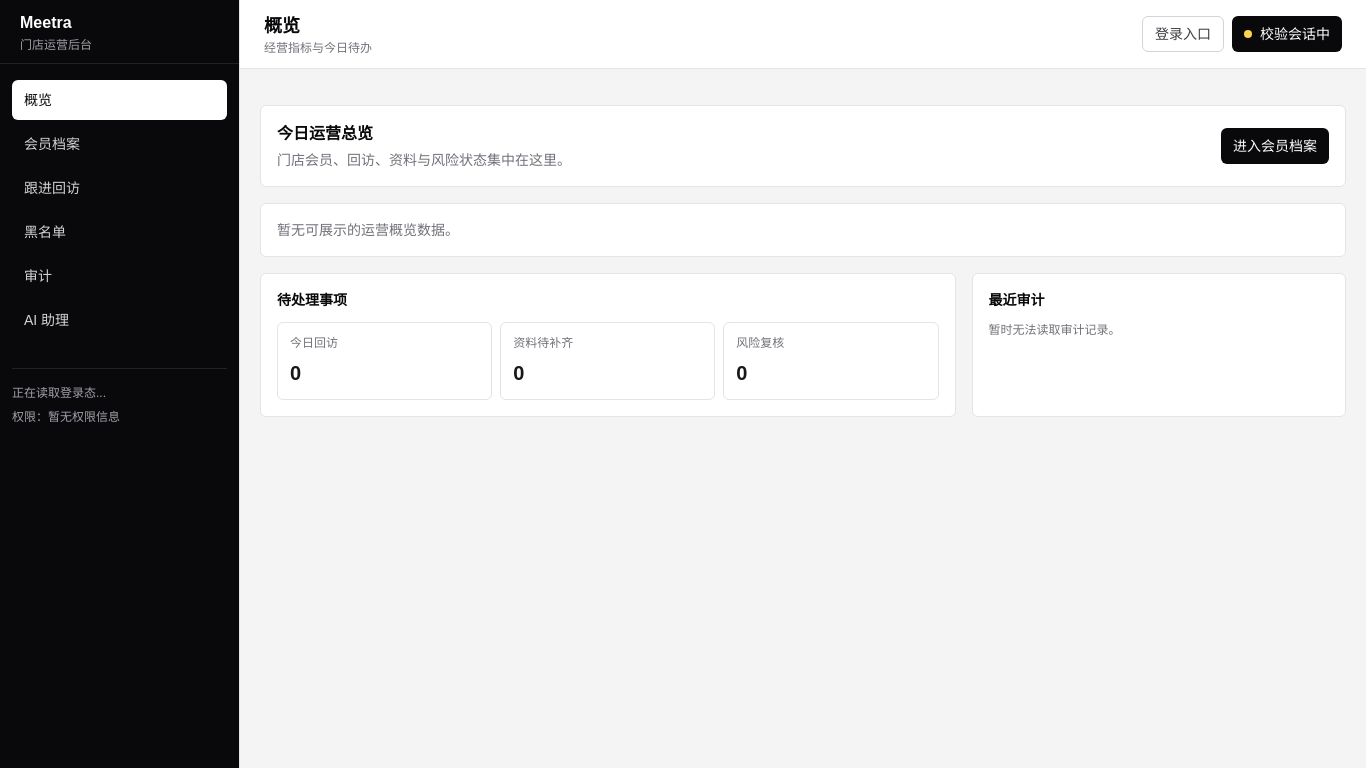
Test case: 精简 V1 首页验收 › shows Assistant member results as direct cards
Click the button "AI 助理". click: (120, 320)
box: left=12, top=300, right=227, bottom=340
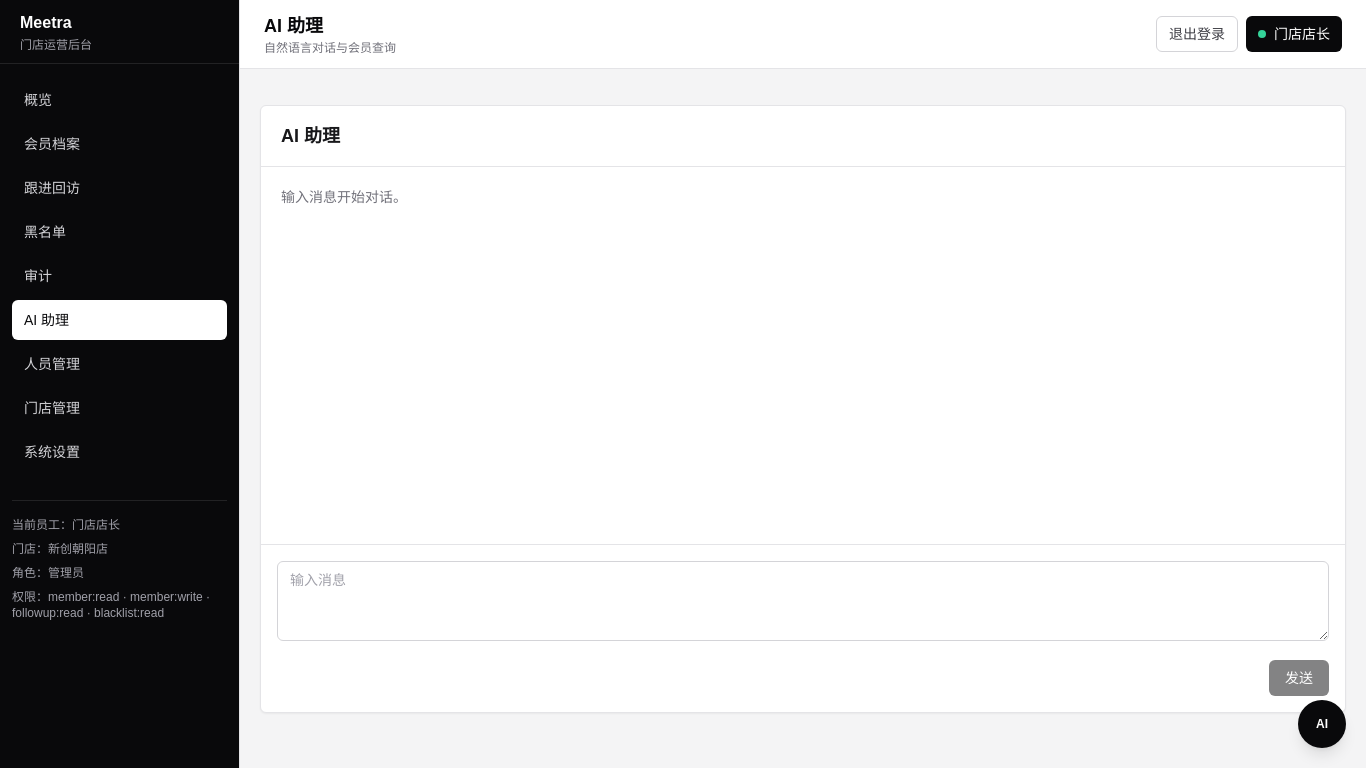
Type "30岁女生" into the text box labelled "输入消息". click: (803, 601)
box: left=277, top=561, right=1329, bottom=641
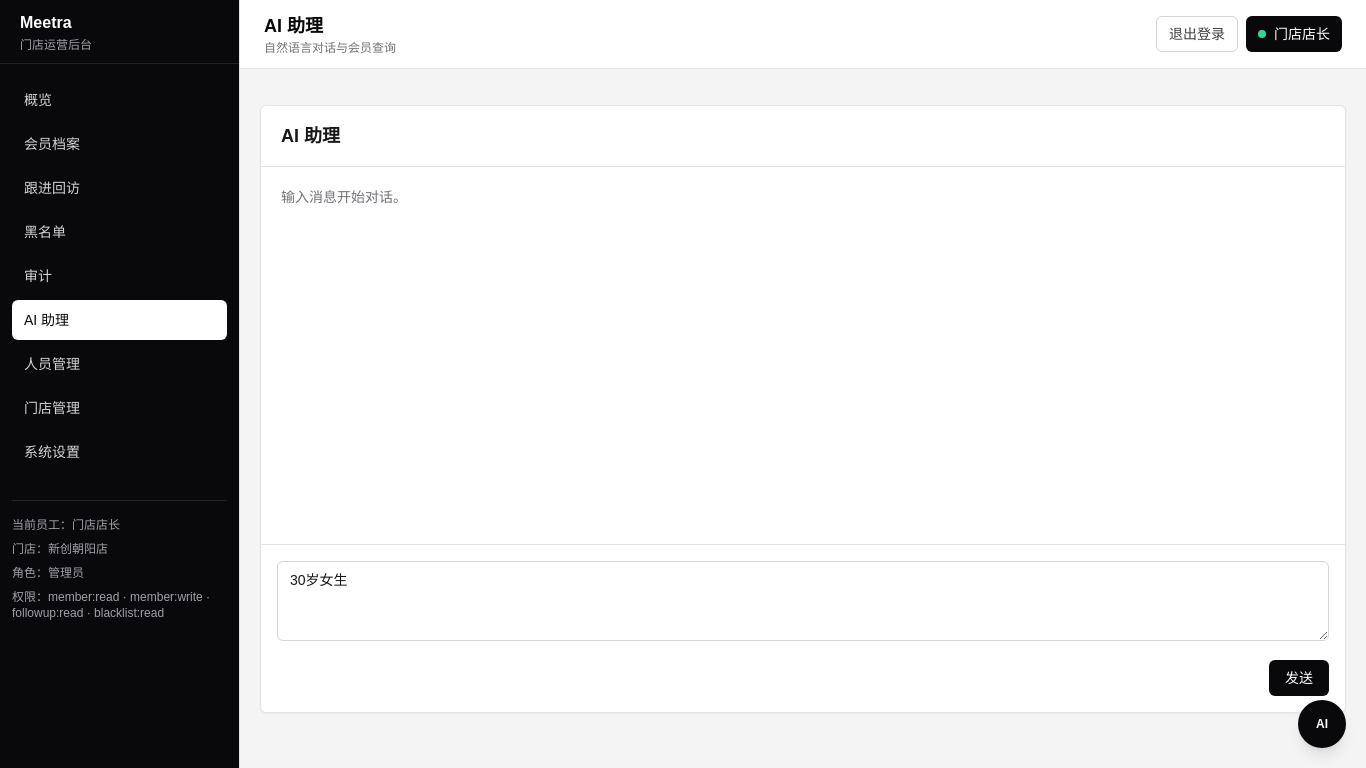
Click the button "发送". click: (1299, 678)
box: left=1269, top=660, right=1329, bottom=696
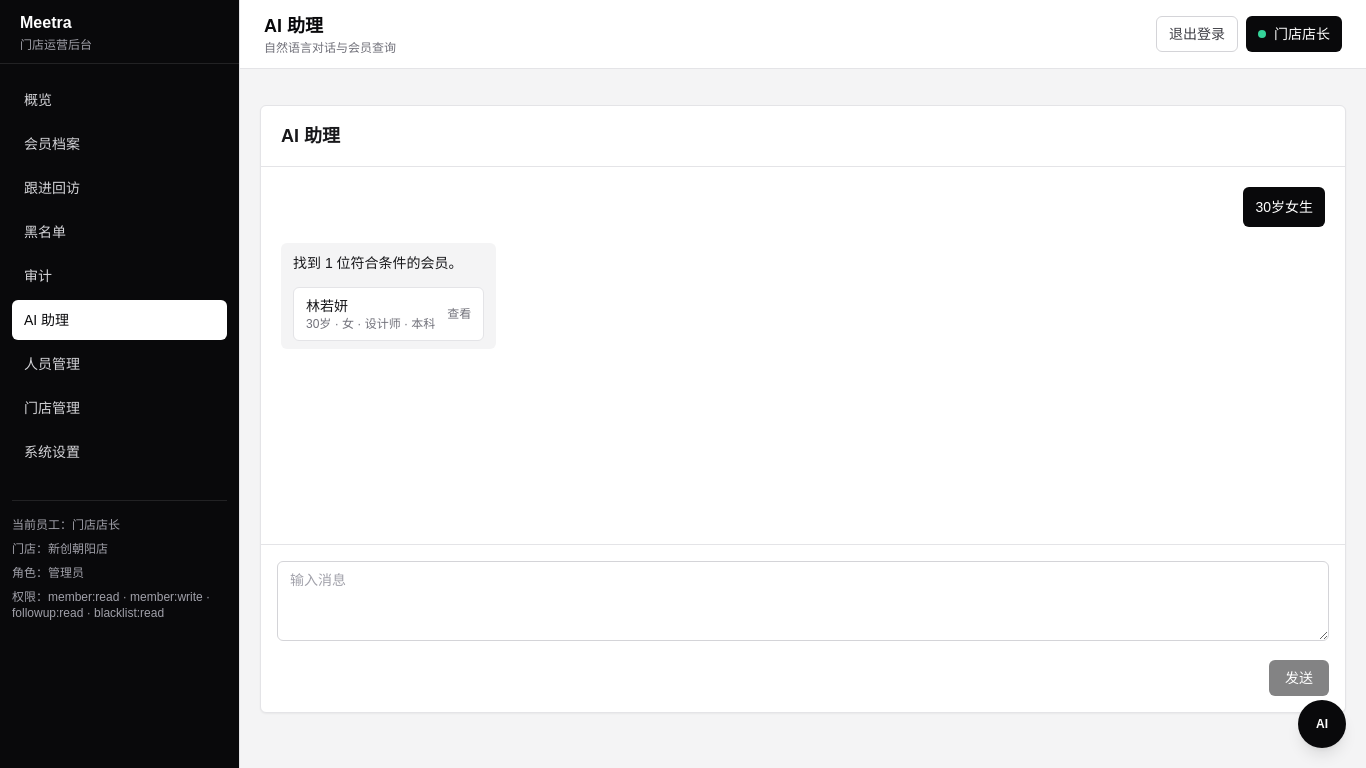
Check: the text "林若妍" is shown, box left=306, top=298, right=348, bottom=314
Check: the text "30岁 · 女 · 设计师 · 本科" is shown, box left=306, top=316, right=435, bottom=332
Check: the button "林若妍 30岁 · 女 · 设计师 · 本科 查看" is shown, box left=294, top=288, right=483, bottom=340
